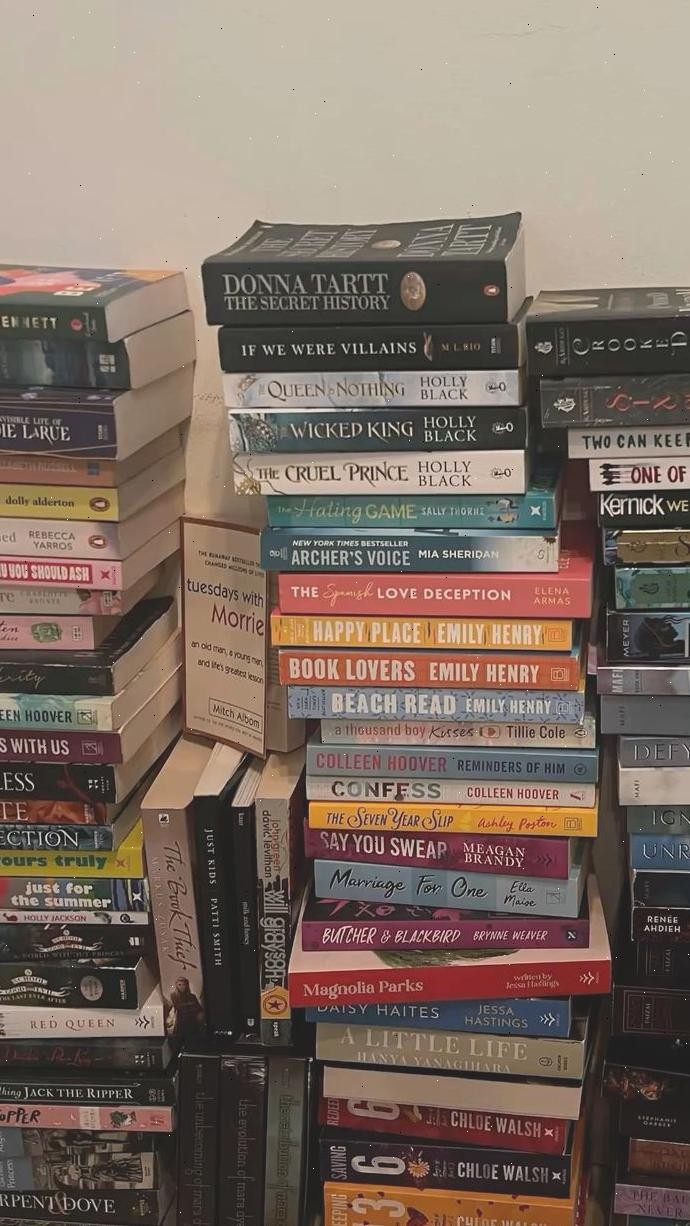book: (289, 951, 618, 1010), (219, 322, 523, 379), (304, 858, 593, 917), (201, 262, 508, 317), (300, 825, 590, 879), (231, 406, 538, 455), (256, 487, 571, 531), (268, 580, 598, 620), (281, 650, 591, 691), (267, 540, 578, 577), (299, 747, 602, 782), (525, 315, 690, 375)
